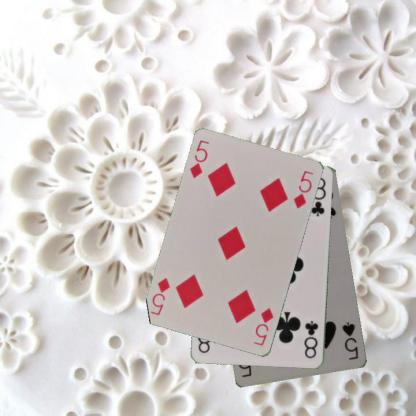5d: (251, 306, 275, 348), (188, 138, 210, 180)
5s: (340, 320, 360, 362)
8c: (301, 318, 320, 360)
